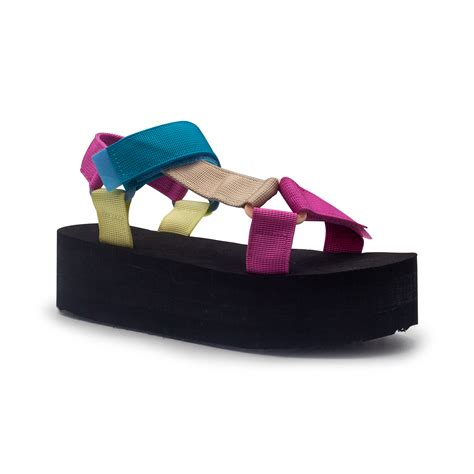nylon: (81, 120, 368, 273)
